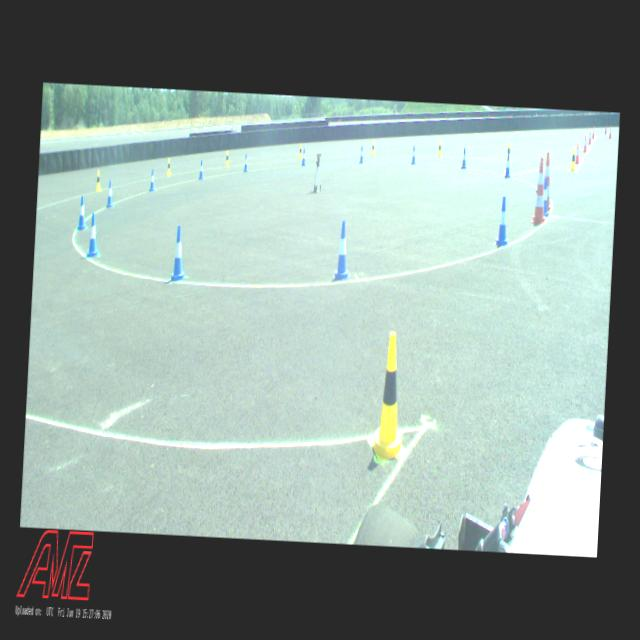blue_cone: (332, 220, 352, 280), (172, 226, 188, 282), (496, 197, 510, 246), (87, 214, 100, 257), (78, 196, 88, 230), (543, 178, 551, 215), (106, 180, 115, 208), (504, 155, 512, 178), (460, 148, 468, 169), (150, 169, 156, 191), (198, 160, 204, 180), (359, 146, 364, 163), (412, 145, 416, 164), (244, 154, 248, 172), (302, 149, 306, 166)
large_orange_cone: (531, 158, 551, 224), (542, 153, 554, 212)
orange_cone: (575, 144, 581, 164), (582, 136, 588, 153), (588, 131, 592, 145), (608, 127, 612, 139), (592, 128, 595, 138)
yellow_cone: (371, 332, 413, 462), (570, 148, 577, 170), (96, 171, 102, 191), (506, 142, 511, 162), (167, 158, 172, 176), (372, 140, 376, 156), (226, 151, 230, 167), (438, 140, 442, 156), (299, 144, 303, 160)
